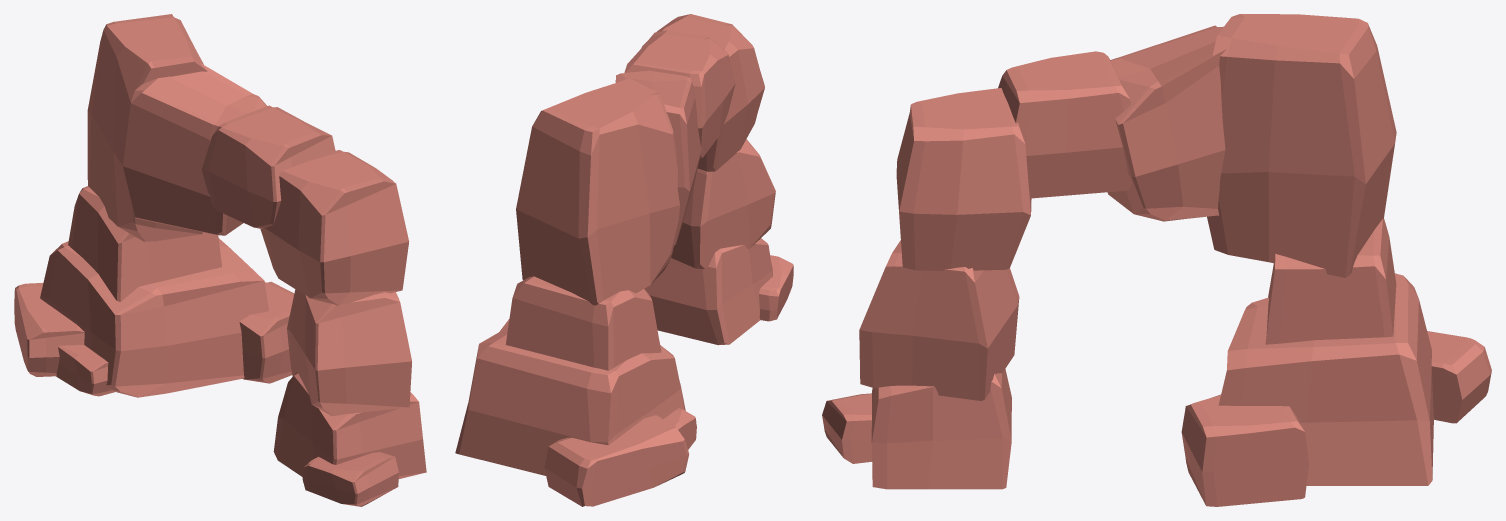
File: Desert_Stone_ArchRed.fbx
3 views of the same model, side by side, from view 1: azimuth 30°, elevation 25°; view 2: azimuth 150°, elevation 25°; view 3: azimuth 270°, elevation 25° (orthographic). The views are drawn at different scales.
Visible parts, largest first — view 1: Desert_Stone_ArchRed; view 2: Desert_Stone_ArchRed; view 3: Desert_Stone_ArchRed.
Boxes of the visible parts, x1=… form: Desert_Stone_ArchRed: x1=14, y1=14, x2=426, y2=506; Desert_Stone_ArchRed: x1=455, y1=14, x2=793, y2=506; Desert_Stone_ArchRed: x1=822, y1=14, x2=1491, y2=506.
Bounding box in the file's own units: 513 × 1043 × 686.
